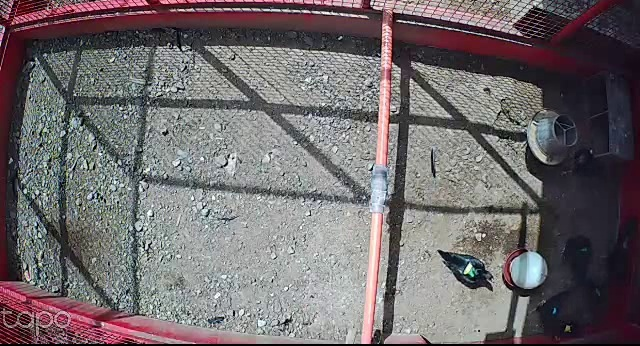Chicken: (436, 248, 496, 286), (527, 292, 571, 329), (539, 314, 584, 346)
Drinker: (503, 246, 548, 293)
Feeder: (527, 107, 581, 165)
Saddle_Color_Blue: (552, 308, 557, 314)
Saddle_Color_Yellow: (563, 324, 573, 332)
Saddle_Color_YellowGreen: (463, 263, 479, 278)
